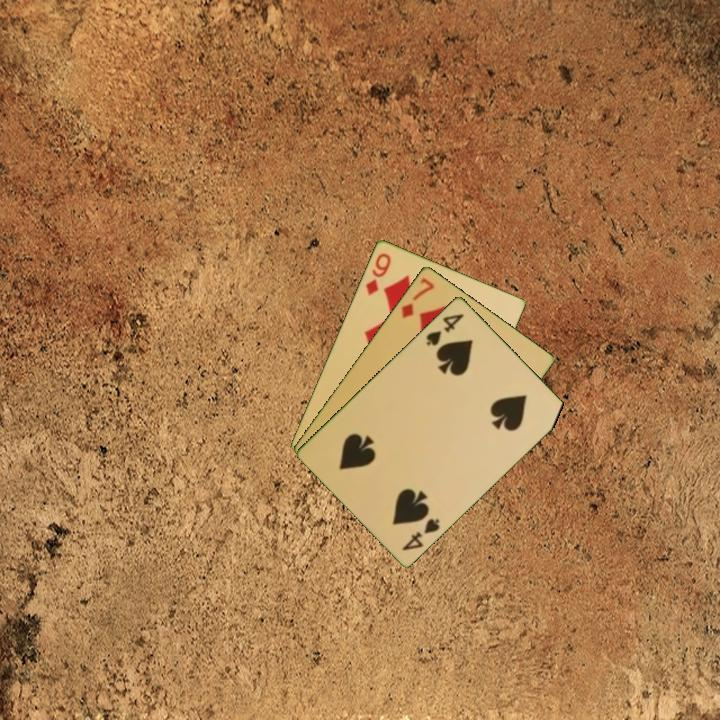4s: (422, 309, 467, 348), (399, 514, 443, 553)
7d: (397, 274, 437, 321)
9d: (362, 249, 394, 298)
